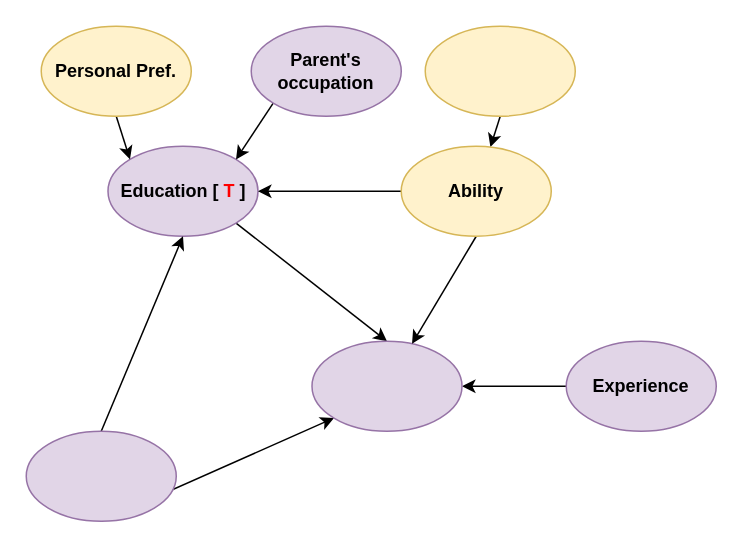
Image size: 743x560. Some labels were removed from this diagram. The centre of each missing label's shape, as x and y in pixels:
"Intelligence" belongs at (x=499, y=70).
"Sex, Race, Age" belongs at (x=100, y=475).
"Yearly income [ Y ]" belongs at (x=386, y=385).
